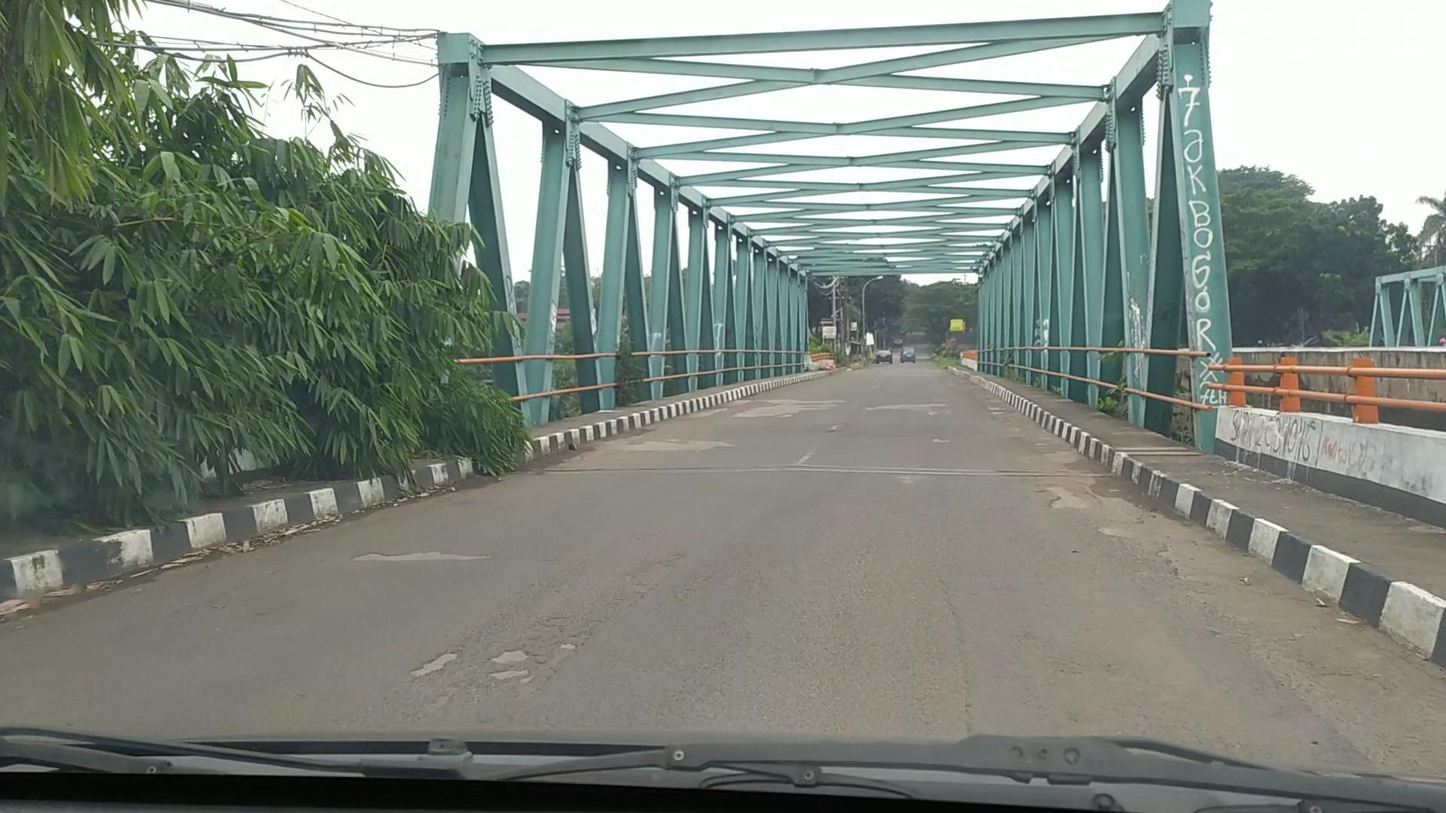pothole: (352, 549, 491, 563), (1037, 483, 1089, 511), (407, 651, 460, 677), (489, 646, 528, 664), (487, 668, 533, 681)
